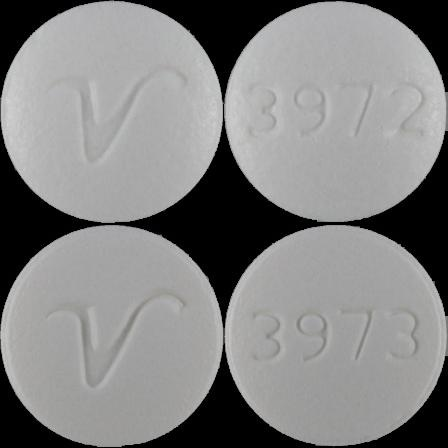0603-4211: (0, 0, 224, 224)
